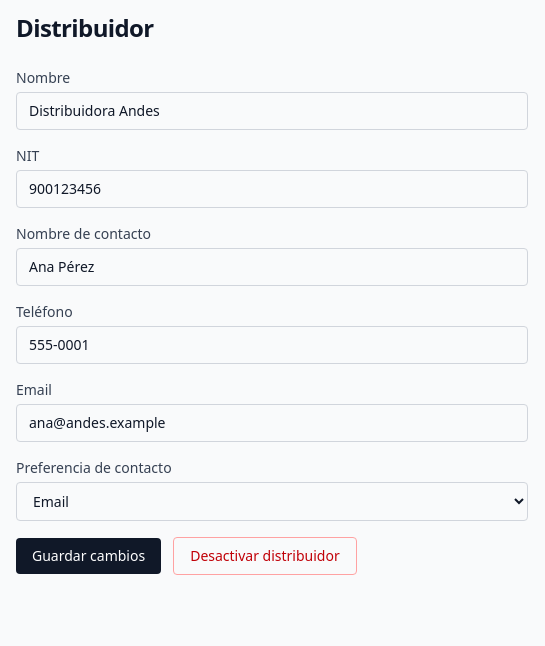
Scenario: DistributorFormPage (DIST-1 · §S2 fila Distributor form) › si la desactivación falla, el error es amigable y no se navega
Click the button "Desactivar distribuidor": (265, 556) [173,537,357,575]
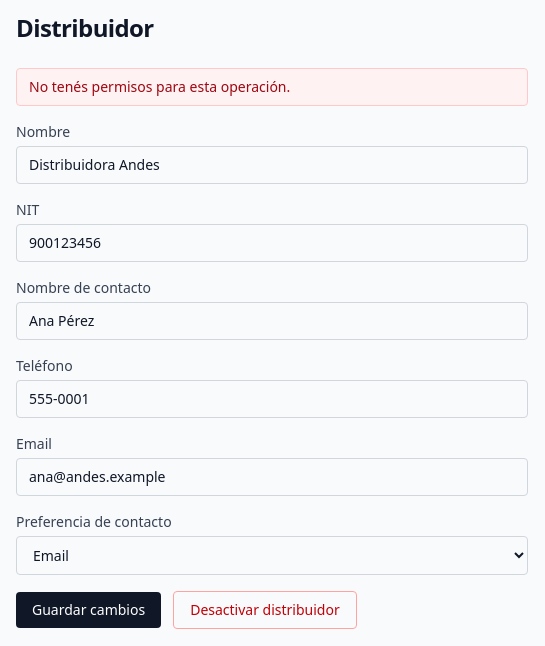
Now the message reads "No tenés permisos para esta operación.", box [29,77,290,96]
